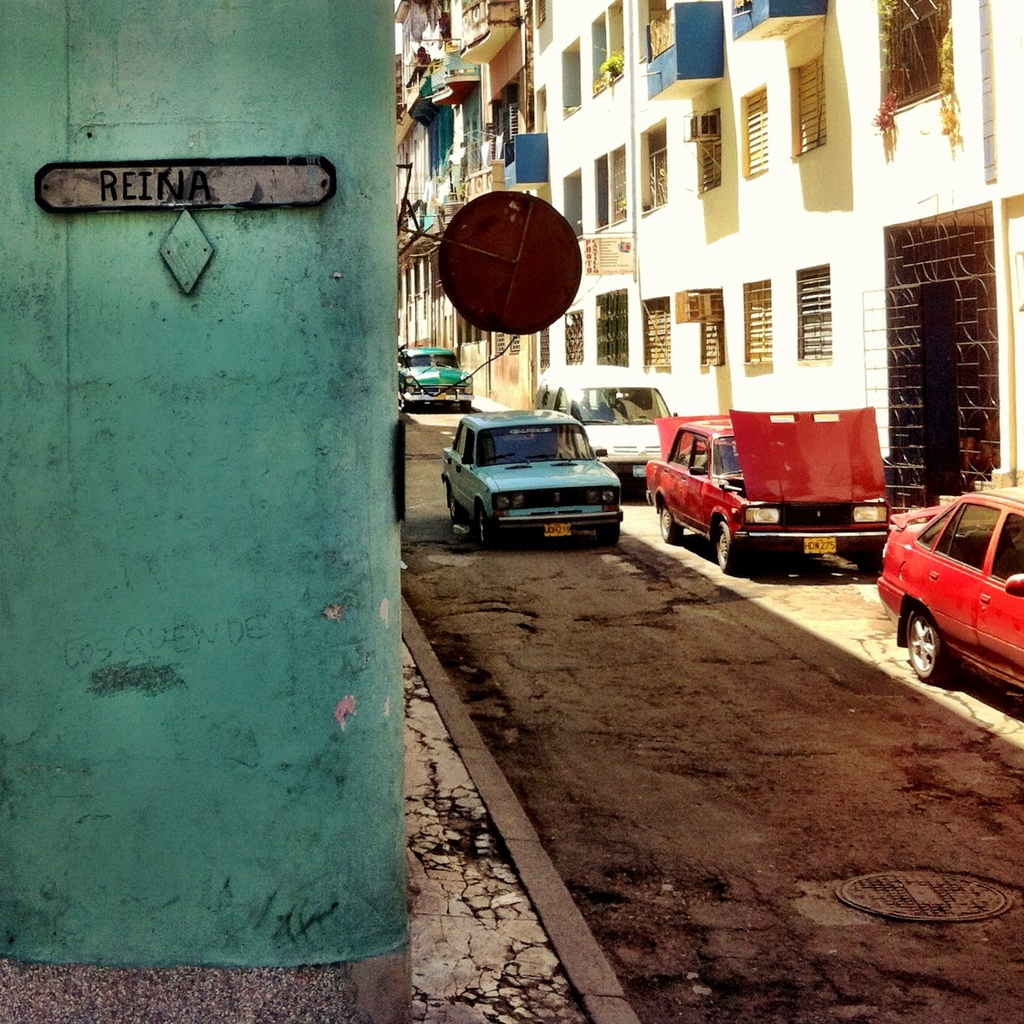Car: (637, 410, 892, 578), (867, 481, 1023, 684), (440, 406, 624, 548), (526, 364, 677, 478), (398, 343, 470, 407)
